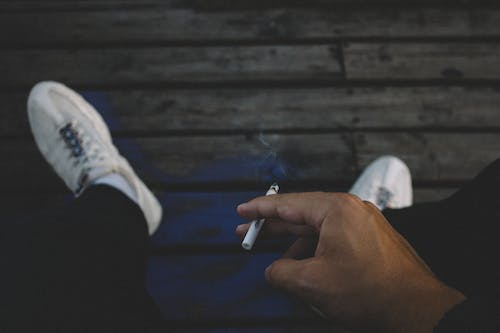cigarette: (239, 179, 281, 252)
